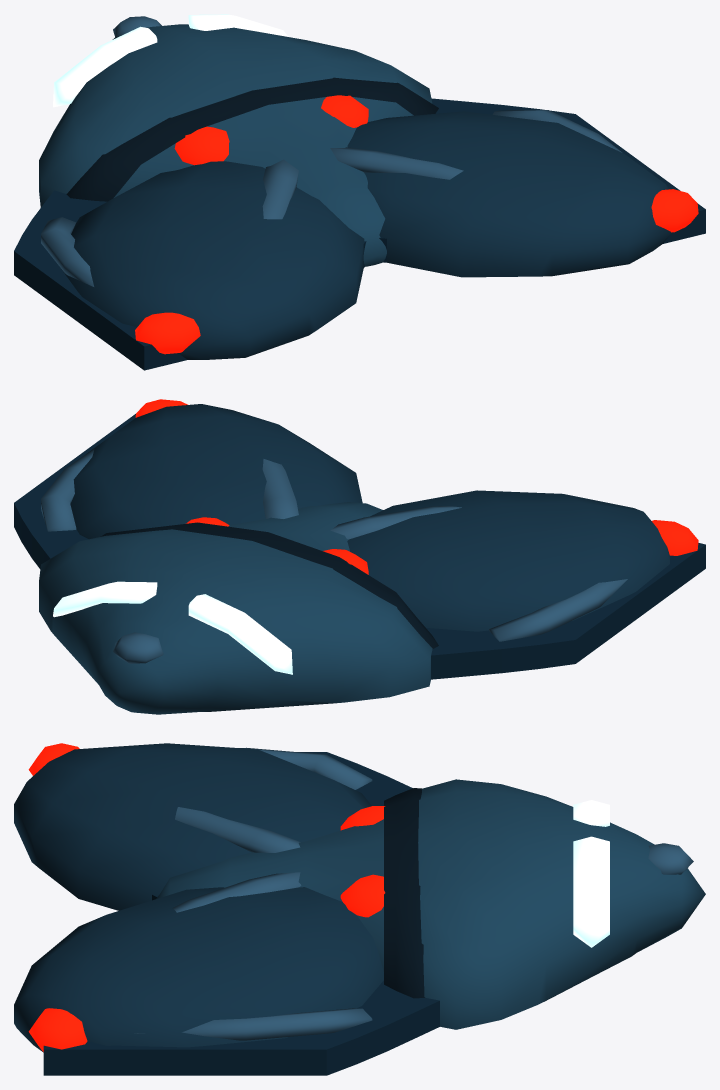
The model's file is newshg-163.glb.
3 views of the same model, one above another, from view 1: azimuth 30°, elevation 25°; view 2: azimuth 150°, elevation 25°; view 3: azimuth 270°, elevation 25° (orthographic). The views are drawn at different scales.
Visible parts, largest first — view 1: newshg-163; view 2: newshg-163; view 3: newshg-163.
Part boxes in pixels (box(x1,y1,x2,y2)): newshg-163: box(14, 14, 705, 370); newshg-163: box(14, 399, 705, 714); newshg-163: box(14, 743, 705, 1075).
Size of the model in its own units: 1.95 by 0.315 by 1.92.
